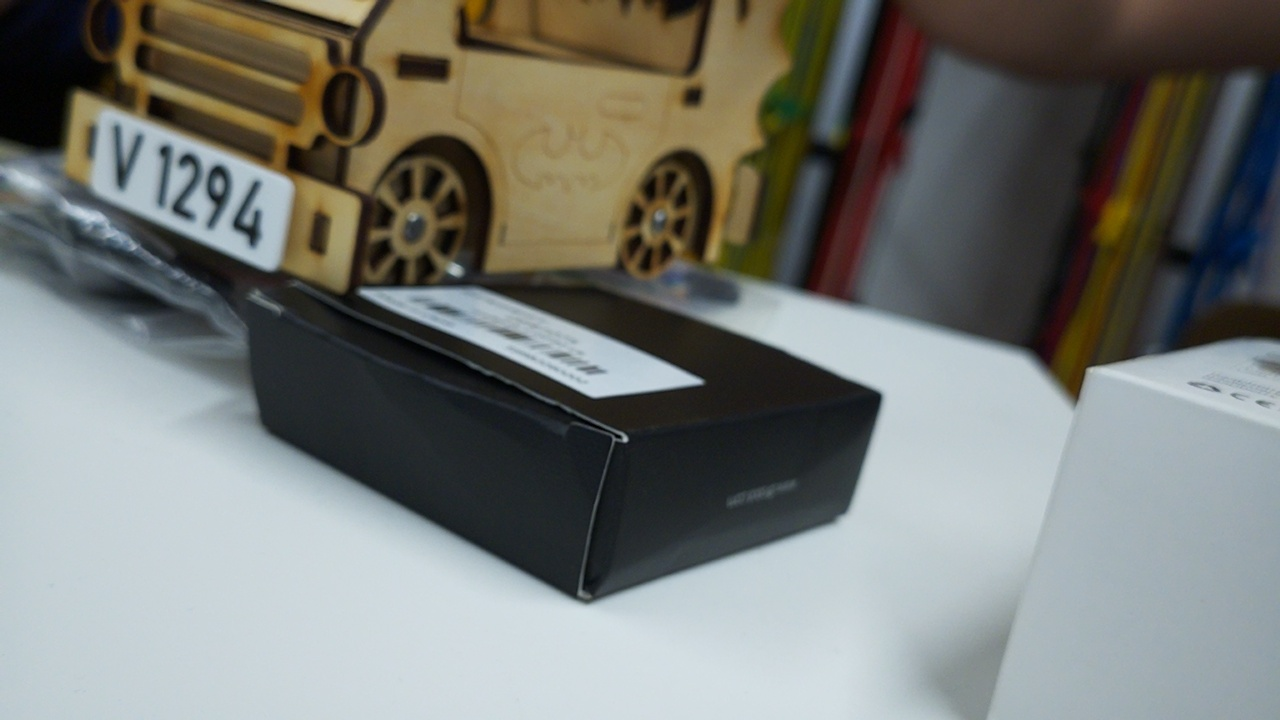license_plate: (87, 102, 295, 274)
